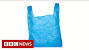bag: (16, 3, 67, 49)
